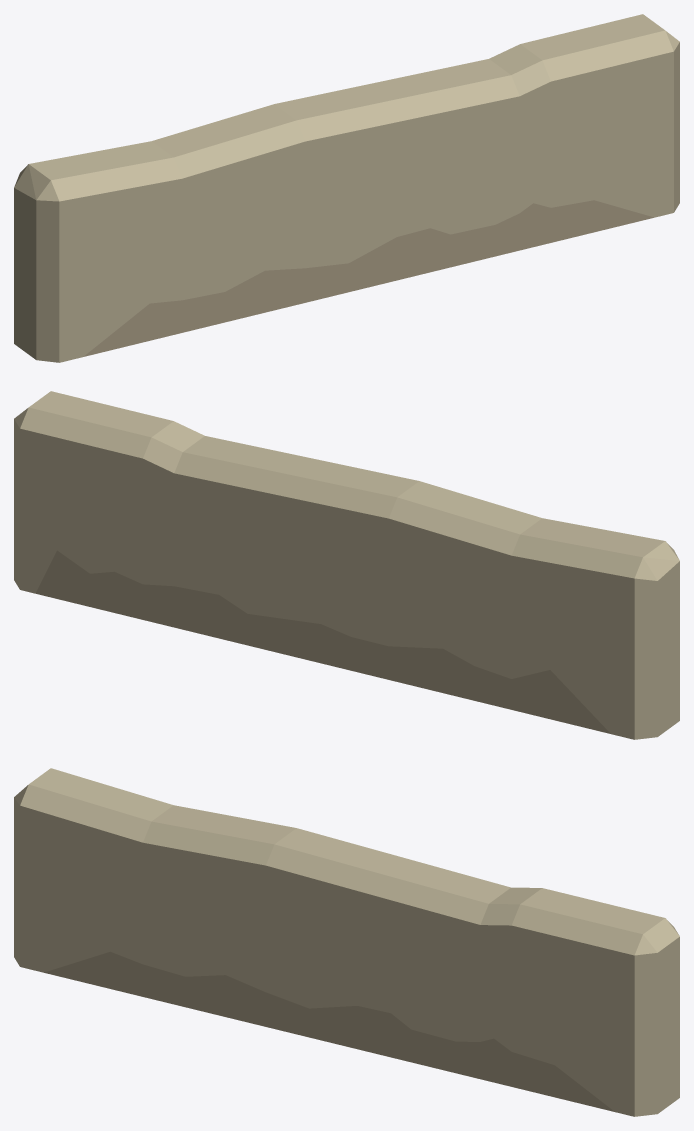
File: wall_stone.glb
The picture shows the model from 3 angles, top to bottom: view 1: azimuth 30°, elevation 25°; view 2: azimuth 150°, elevation 25°; view 3: azimuth 330°, elevation 25°; orthographic projection.
Parts seen in each view (by area): view 1: SM_Bld_Wall_01; view 2: SM_Bld_Wall_01; view 3: SM_Bld_Wall_01.
Part boxes in pixels (box(x1,y1,x2,y2)): SM_Bld_Wall_01: box(14, 14, 679, 362); SM_Bld_Wall_01: box(14, 391, 679, 739); SM_Bld_Wall_01: box(14, 768, 679, 1116).
Bounding box in the file's own units: 396 × 104 × 41.98.
1 material, 1 textured.
